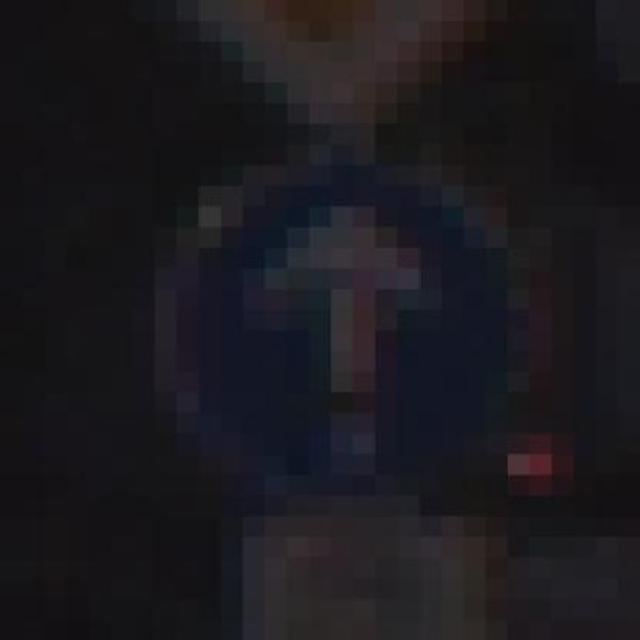Straight Ahead Only: (132, 103, 552, 495)
